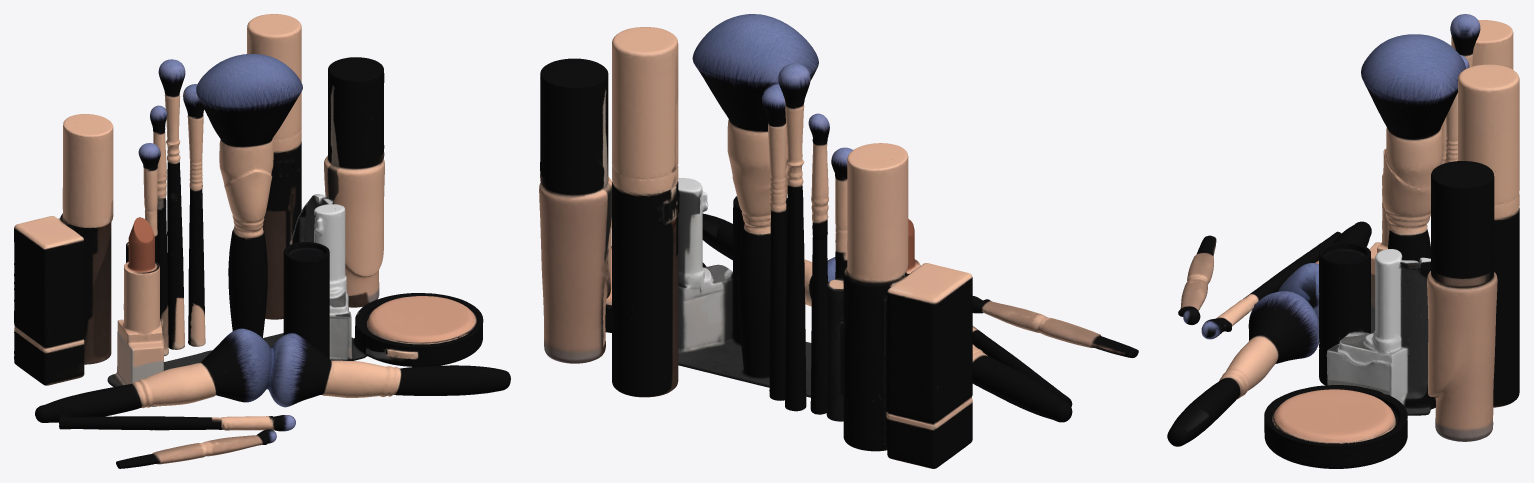
Rendered from beauty-portrait.glb.
3 renders of one model, left to right at view 1: azimuth 30°, elevation 25°; view 2: azimuth 150°, elevation 25°; view 3: azimuth 270°, elevation 25°, orthographic. The views are drawn at different scales.
Size of the model in its own units: 1.9 by 1.24 by 1.21.
Materials: 1 (1 with a texture image).
